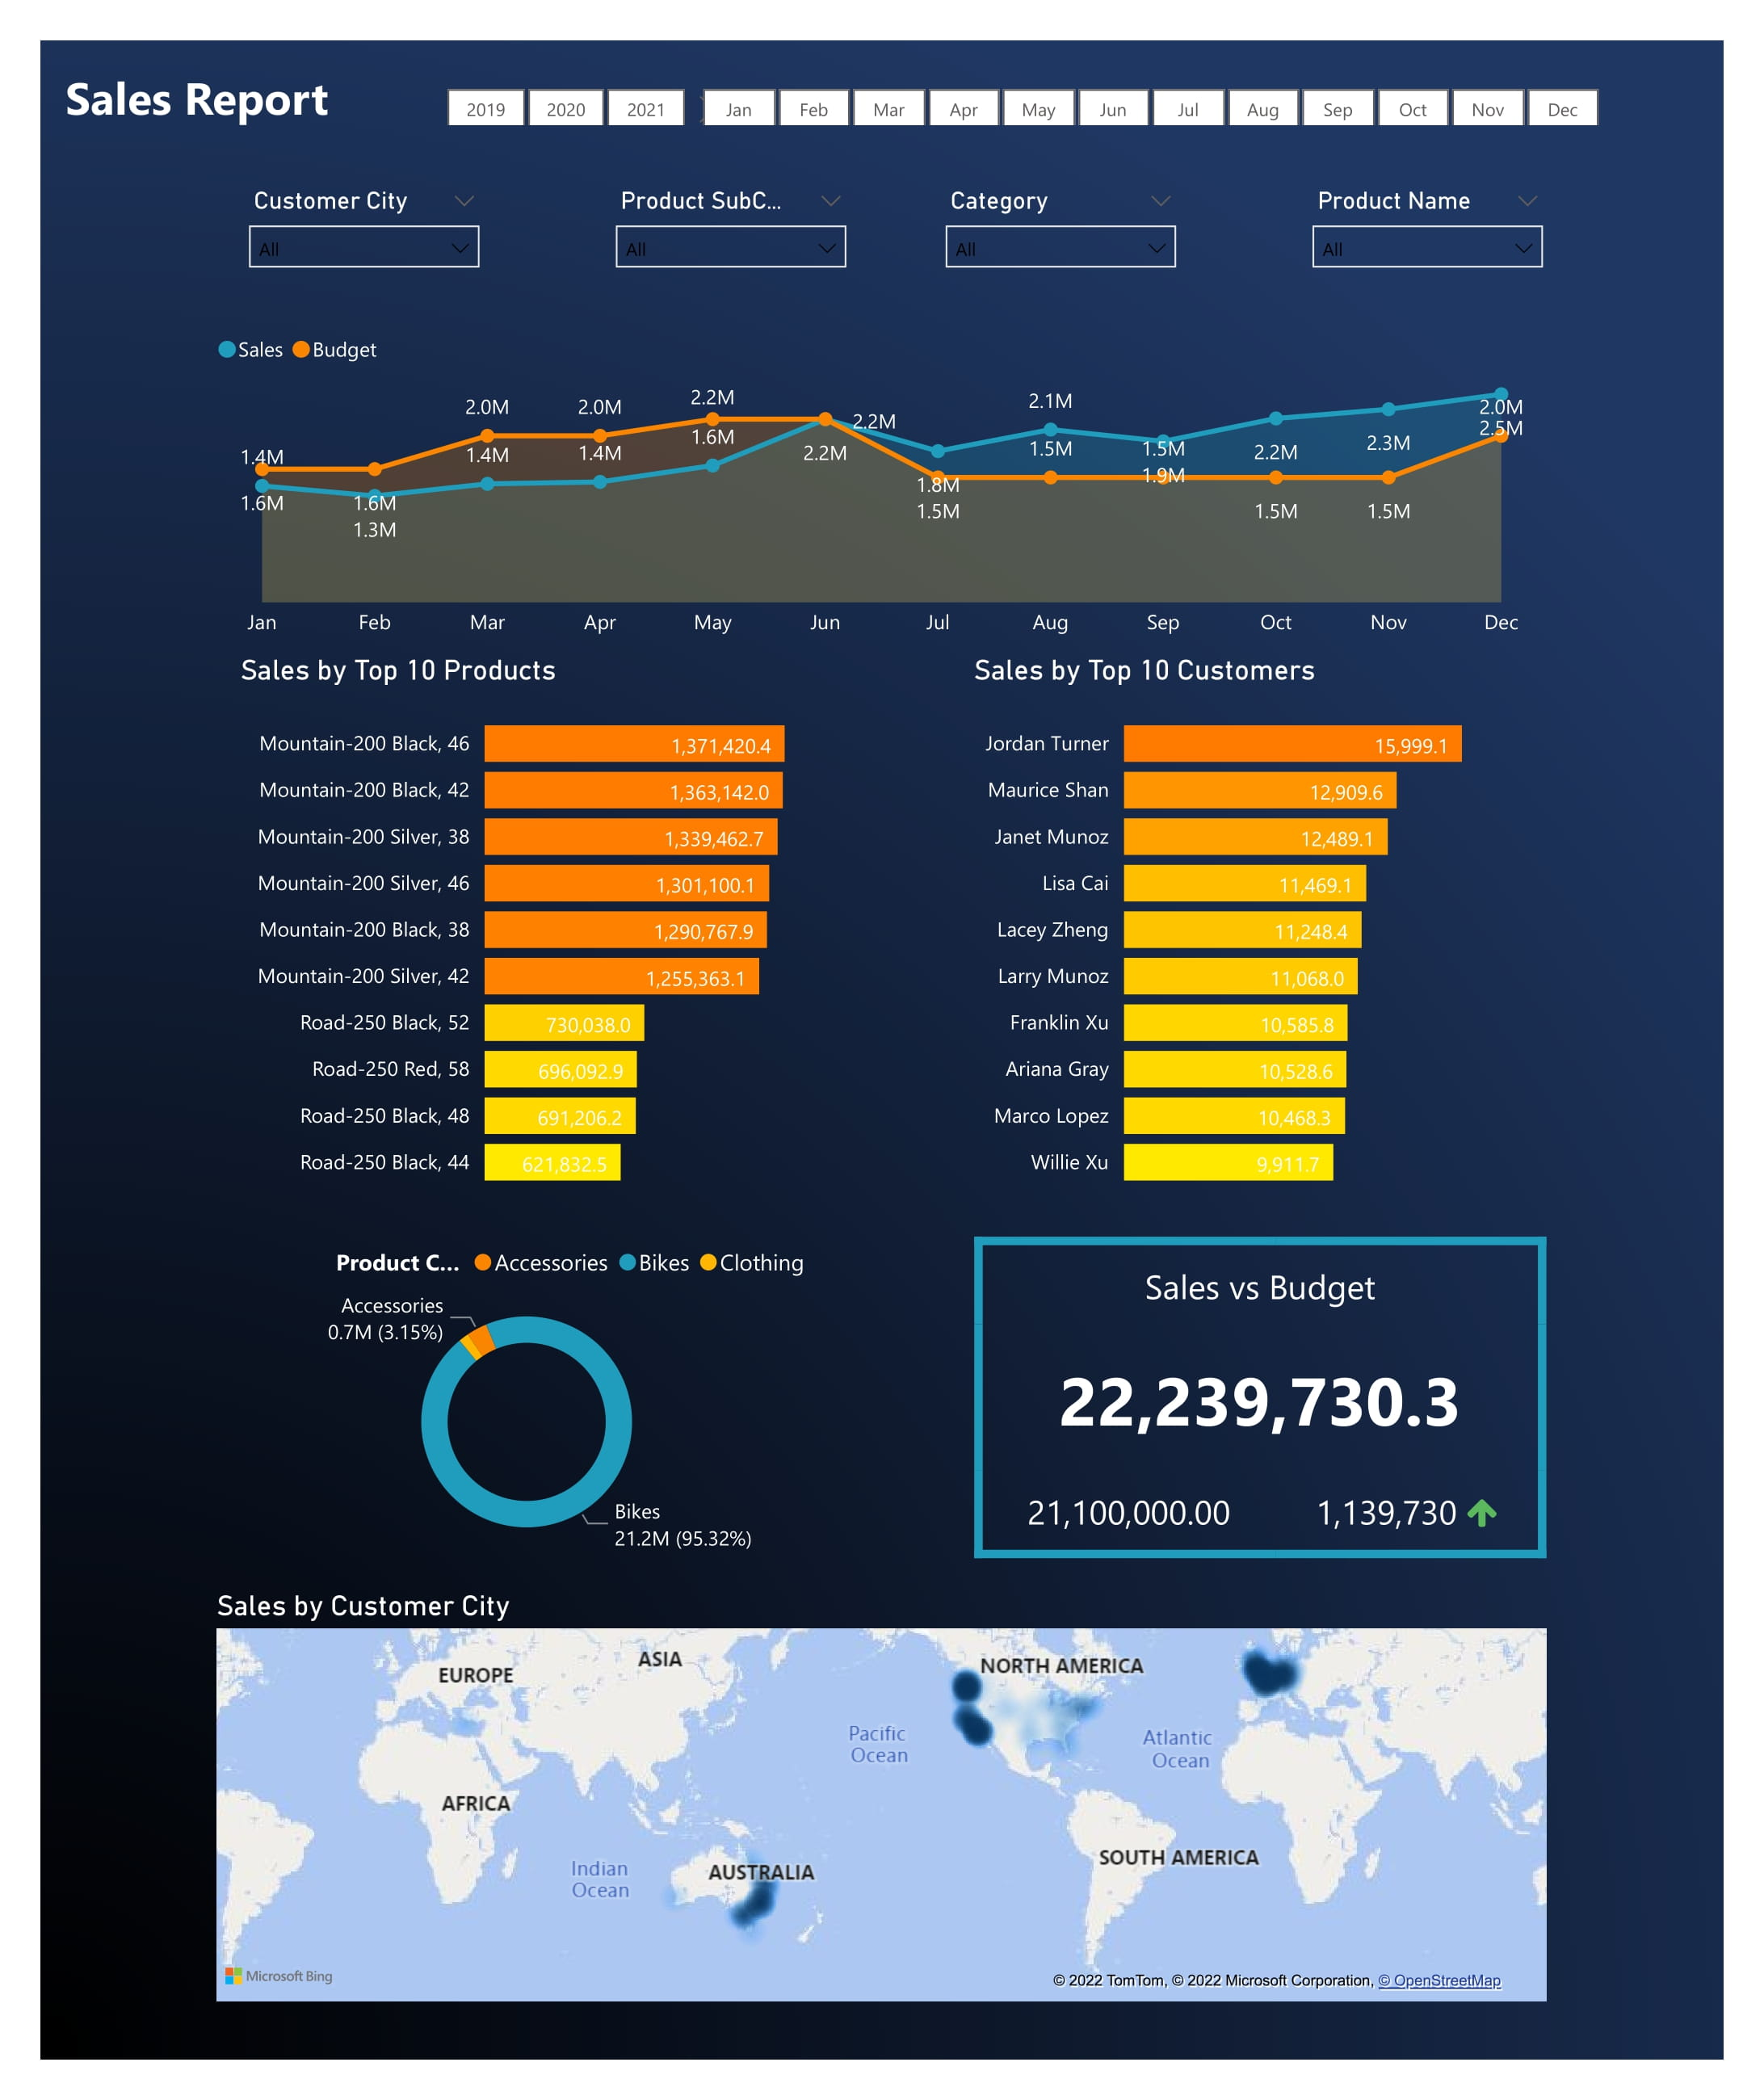

Layout of this report page (visuals, bound fields, positions):
{"tool":"powerbi","page":{"name":"Sales Overview","canvas":[1000,1200],"ordinal":0},"visuals":[{"type":"textbox","box":[10,10,207,64],"z":0},{"type":"slicer","fields":{"Values":["DIM_Calendar.Year"]},"box":[216,21,191,28],"z":1000},{"type":"slicer","fields":{"Values":["DIM_Calendar.MonthShort"]},"box":[367,21,582,28],"z":2000},{"type":"slicer","fields":{"Values":["DIM_Customers.Customer City"]},"box":[114,81,157,63],"z":3000},{"type":"slicer","fields":{"Values":["DIM_Products.Product Category"]},"box":[528,81,157,63],"z":4000},{"type":"slicer","fields":{"Values":["DIM_Products.Product Name"]},"box":[745,81,157,63],"z":5000},{"type":"slicer","fields":{"Values":["DIM_Products.Product SubCategory"]},"box":[331,81,157,63],"z":6000},{"type":"barChart","title":"Sales by Top 10 Products","fields":{"Category":["DIM_Products.Product Name"],"Y":["Analysis Metrics.Sales"]},"box":[113.8,363.8,350,330],"z":7000},{"type":"areaChart","fields":{"Category":["DIM_Calendar.MonthShort"],"Y":["Analysis Metrics.Sales","Analysis Metrics.Budget"]},"box":[100,163.8,800,200],"z":8000},{"type":"barChart","title":"Sales by Top 10 Customers","fields":{"Category":["DIM_Customers.Full Name"],"Y":["Analysis Metrics.Sales"]},"box":[550,363.8,350,330],"z":9000},{"type":"donutChart","title":"Product Category Sales","fields":{"Y":["Analysis Metrics.Sales"],"Series":["DIM_Products.Product Category"]},"box":[113.8,706.2,350,201.2],"z":10000},{"type":"map","fields":{"Size":["Analysis Metrics.Sales"],"Category":["DIM_Customers.Customer City"]},"box":[100,920,800,250],"z":12000},{"type":"BBED0A4D4D8D44CE93CF2DAFADEE466C","fields":{"actual":["Analysis Metrics.Sales"],"target2":["Analysis Metrics.Sales / Budget"],"target1":["Analysis Metrics.Budget"]},"box":[550,706.2,350,201.2],"z":13001}]}

Visuals, with their boxes on the page's 1000x1200 design canvas (x1, y1, x2, y2). These are canvas units, not pixel positions in the 1764x2100 screenshot, which may show the page scaled, cropped or inside an application window:
textbox: [x1=10, y1=10, x2=217, y2=74]
slicer - DIM_Calendar.Year: [x1=216, y1=21, x2=407, y2=49]
slicer - DIM_Calendar.MonthShort: [x1=367, y1=21, x2=949, y2=49]
slicer - DIM_Customers.Customer City: [x1=114, y1=81, x2=271, y2=144]
slicer - DIM_Products.Product Category: [x1=528, y1=81, x2=685, y2=144]
slicer - DIM_Products.Product Name: [x1=745, y1=81, x2=902, y2=144]
slicer - DIM_Products.Product SubCategory: [x1=331, y1=81, x2=488, y2=144]
"Sales by Top 10 Products" barChart: [x1=114, y1=364, x2=464, y2=694]
areaChart - DIM_Calendar.MonthShort x Analysis Metrics.Sales: [x1=100, y1=164, x2=900, y2=364]
"Sales by Top 10 Customers" barChart: [x1=550, y1=364, x2=900, y2=694]
"Product Category Sales" donutChart: [x1=114, y1=706, x2=464, y2=907]
map - Analysis Metrics.Sales x DIM_Customers.Customer City: [x1=100, y1=920, x2=900, y2=1170]
BBED0A4D4D8D44CE93CF2DAFADEE466C - Analysis Metrics.Sales x Analysis Metrics.Sales / Budget: [x1=550, y1=706, x2=900, y2=907]
